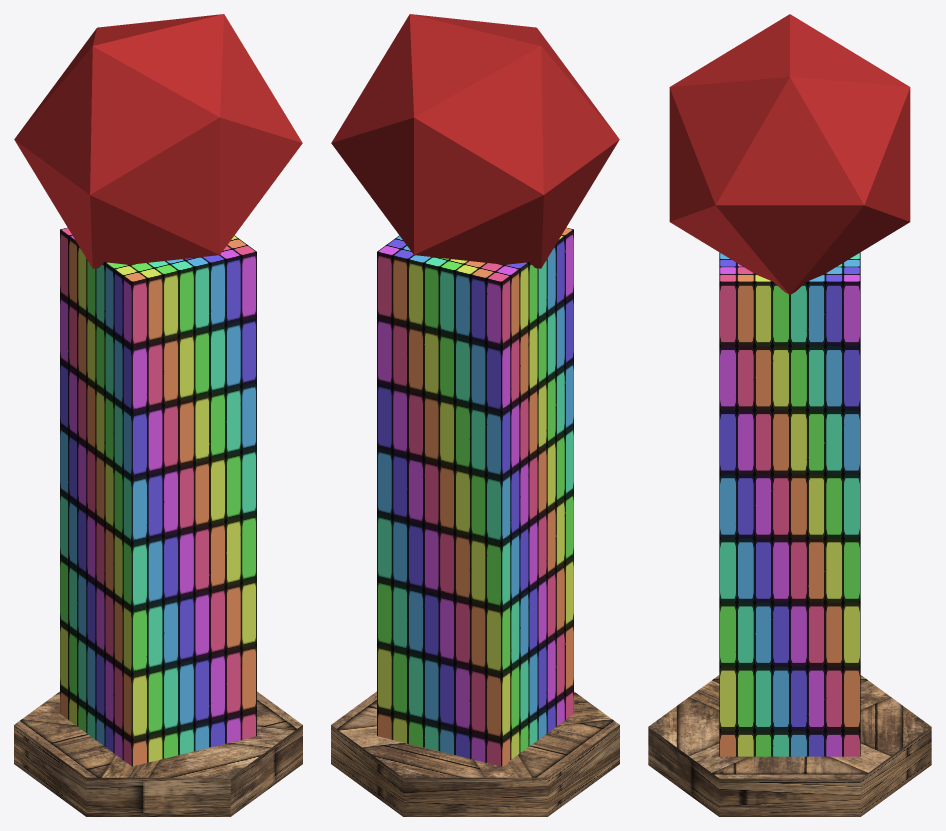
3 views of the same model, side by side, from view 1: azimuth 30°, elevation 25°; view 2: azimuth 150°, elevation 25°; view 3: azimuth 270°, elevation 25° (orthographic).
Visible parts, largest first — view 1: pillar, Icosahedron, base; view 2: pillar, Icosahedron, base; view 3: pillar, Icosahedron, base.
Boxes of the visible parts, x1,y1,x2,y2 form: pillar: (60, 227, 256, 766); Icosahedron: (14, 14, 302, 268); base: (14, 691, 302, 816); pillar: (377, 227, 573, 766); Icosahedron: (331, 14, 619, 268); base: (331, 691, 619, 816); pillar: (719, 252, 860, 756); Icosahedron: (669, 14, 910, 294); base: (648, 675, 931, 816).
Size of the model in its own units: 1.73 by 5.61 by 2.
Materials: 3 (2 with a texture image).
